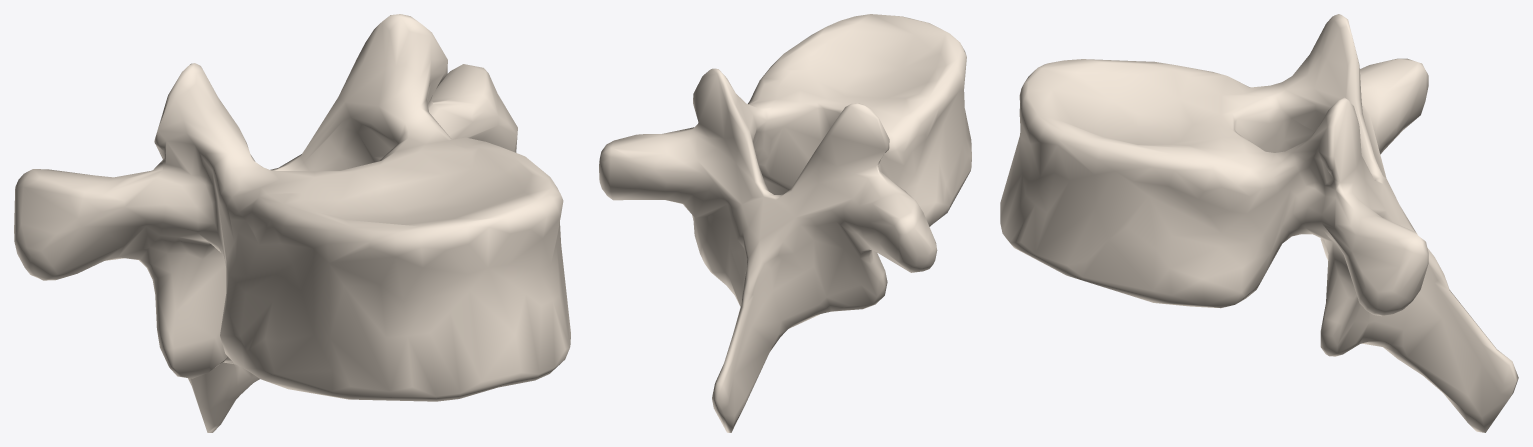
The picture shows the model from 3 angles, left to right: view 1: azimuth 30°, elevation 25°; view 2: azimuth 150°, elevation 25°; view 3: azimuth 270°, elevation 25°; orthographic projection. The views are drawn at different scales.
Visible parts, largest first — view 1: Thoracic vertebrae (T8); view 2: Thoracic vertebrae (T8); view 3: Thoracic vertebrae (T8).
Boxes of the visible parts, x1,y1,x2,y2 form: Thoracic vertebrae (T8): (14,14,570,432); Thoracic vertebrae (T8): (599,14,971,432); Thoracic vertebrae (T8): (1000,14,1518,432).
Size of the model in its own units: 0.0676 by 0.0594 by 0.0744.
